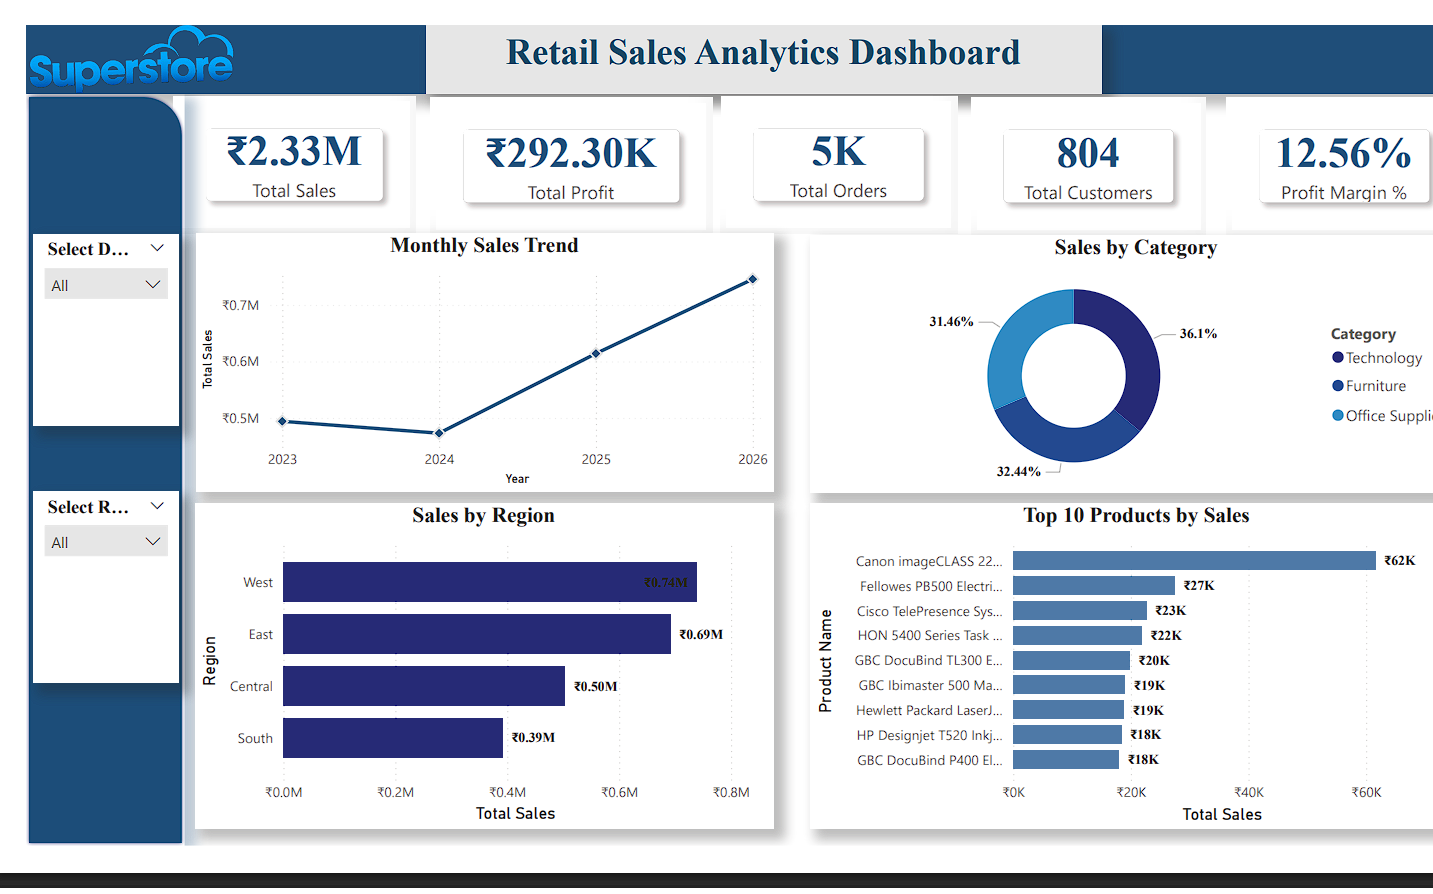

This screenshot's page, from the dashboard's own definition file:
{"tool":"powerbi","page":{"name":"📊 Executive Dashboard","canvas":[1280,720],"ordinal":0},"visuals":[{"type":"shape","box":[0,0,1280,60],"z":0},{"type":"textbox","box":[351.2,0,592.5,60],"z":1000},{"type":"cardVisual","fields":{"Data":["Fact_Sales.Total Profit"]},"box":[355,62.5,247.5,121.2],"z":2000},{"type":"cardVisual","fields":{"Data":["Fact_Sales.Profit Margin %"]},"box":[1053.8,62.5,207.5,121.2],"z":3000},{"type":"cardVisual","fields":{"Data":["Fact_Sales.Total Customers"]},"box":[830,62.5,206.2,121.2],"z":4000},{"type":"cardVisual","fields":{"Data":["Fact_Sales.Total Orders"]},"box":[610,62.2,207.8,121.1],"z":5000},{"type":"cardVisual","fields":{"Data":["Fact_Sales.Total Sales"]},"box":[128.9,62.2,213.3,121.1],"z":6000},{"type":"shape","box":[0,60,138.8,660],"z":7000},{"type":"slicer","title":"vb","fields":{"Values":["Fact_Sales.Region"]},"box":[5.6,408.9,128.9,167.8],"z":8000},{"type":"slicer","fields":{"Values":["Dim_Date.Date"]},"box":[5.6,183.3,128.9,167.8],"z":9000},{"type":"image","box":[0,0,186.2,60],"z":10000},{"type":"lineChart","title":"Monthly Sales Trend","fields":{"Category":["Dim_Date.Year"],"Y":["Fact_Sales.Total Sales"]},"box":[148.6,182.1,507.9,226.4],"z":11000},{"type":"donutChart","title":"Sales by Category","fields":{"Y":["Fact_Sales.Total Sales"],"Category":["Fact_Sales.Category"]},"box":[688.8,183.8,572.5,226.2],"z":12000},{"type":"clusteredBarChart","title":"Sales by Region","fields":{"Category":["Fact_Sales.Region"],"Y":["Fact_Sales.Total Sales"]},"box":[147.5,418.8,508.8,286.2],"z":13000},{"type":"clusteredBarChart","title":"Top 10 Products by Sales","fields":{"Y":["Fact_Sales.Total Sales"],"Category":["Fact_Sales.Product Name"]},"box":[688.8,418.8,572.5,286.2],"z":14000}]}

Visuals, with their boxes on the page's 1280x720 design canvas (x1, y1, x2, y2). These are canvas units, not pixel positions in the 1433x894 screenshot, which may show the page scaled, cropped or inside an application window:
shape: 0/0/1280/60
textbox: 351/0/944/60
cardVisual - Fact_Sales.Total Profit: 355/62/602/184
cardVisual - Fact_Sales.Profit Margin %: 1054/62/1261/184
cardVisual - Fact_Sales.Total Customers: 830/62/1036/184
cardVisual - Fact_Sales.Total Orders: 610/62/818/183
cardVisual - Fact_Sales.Total Sales: 129/62/342/183
shape: 0/60/139/720
"vb" slicer: 6/409/134/577
slicer - Dim_Date.Date: 6/183/134/351
image: 0/0/186/60
"Monthly Sales Trend" lineChart: 149/182/656/408
"Sales by Category" donutChart: 689/184/1261/410
"Sales by Region" clusteredBarChart: 148/419/656/705
"Top 10 Products by Sales" clusteredBarChart: 689/419/1261/705
